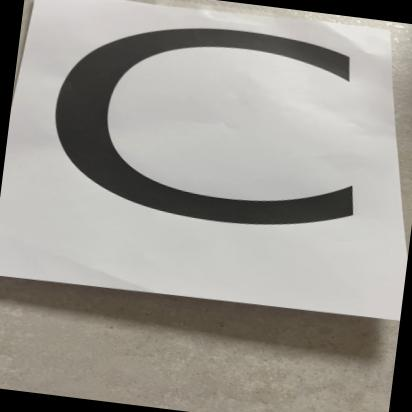seat: (3, 0, 412, 331)
